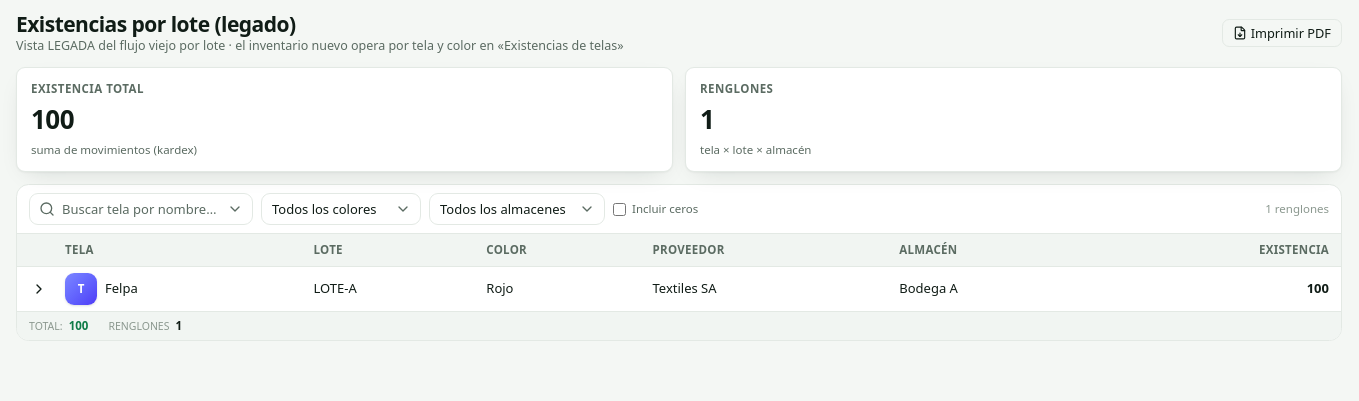
Test: ExistenciasTelasPagina (F4-E1) › expande los componentes del lote (D5) al pulsar el toggle de la fila
What coordinates should you click on to do the following:
click the button with test id "telas-fila-toggle-1-7-5"
I would click on:
 (39, 289)
Its box is x1=25 y1=275 x2=53 y2=303.
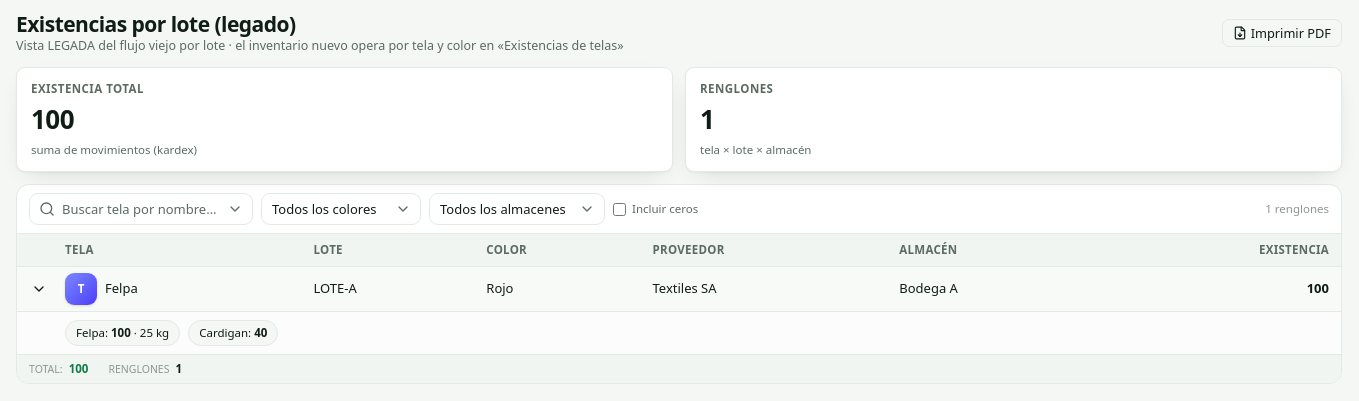
Result: the row with test id "telas-fila-componentes-1-7-5" is shown at x1=17 y1=311 x2=1341 y2=354
